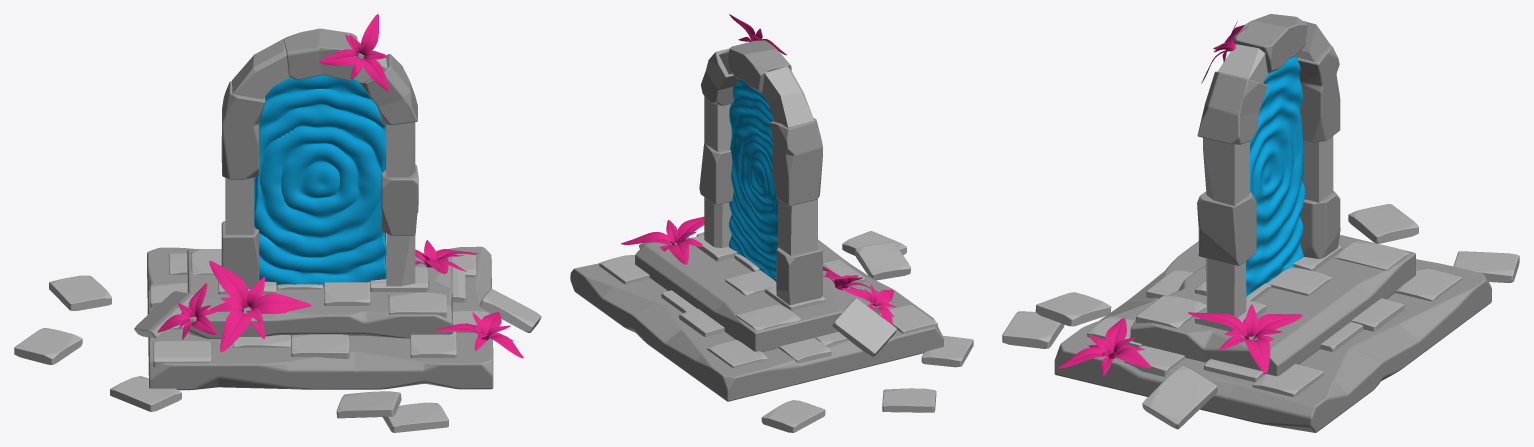
3 views of the same model, side by side, from view 1: azimuth 30°, elevation 25°; view 2: azimuth 150°, elevation 25°; view 3: azimuth 270°, elevation 25° (orthographic). The views are drawn at different scales.
Visible parts, largest first — view 1: Plane.003, Plane.004, Plane.001, Plane.002, Plane, Plane.006, Plane.009, Cube.024, Cube.023, Cube.019, Cube.020, Cube.018 (+14 smaller); view 2: Plane.004, Plane.001, Plane.002, Plane.003, Plane, Cube.022, Cube.019, Plane.007, Cube.023, Cube.024, Cube.020, Cube.005 (+14 smaller); view 3: Plane.004, Plane.001, Plane.002, Plane.003, Plane, Cube.017, Plane.007, Cube.024, Plane.008, Cube.019, Cube.018, Cube.023 (+12 smaller).
Part boxes in pixels (bbox=[...]): Plane.003: bbox=[254, 75, 386, 286]; Plane.004: bbox=[147, 246, 493, 390]; Plane.001: bbox=[221, 28, 418, 289]; Plane.002: bbox=[187, 249, 452, 338]; Plane: bbox=[225, 38, 415, 286]; Plane.006: bbox=[209, 260, 311, 352]; Plane.009: bbox=[318, 14, 390, 91]; Cube.024: bbox=[14, 328, 82, 364]; Cube.023: bbox=[49, 275, 111, 310]; Cube.019: bbox=[336, 391, 401, 418]; Cube.020: bbox=[110, 376, 181, 411]; Cube.018: bbox=[382, 402, 448, 432]; Plane.004: bbox=[570, 239, 943, 401]; Plane.001: bbox=[699, 40, 822, 305]; Plane.002: bbox=[635, 234, 879, 351]; Plane.003: bbox=[728, 79, 777, 281]; Plane: bbox=[704, 51, 817, 255]; Cube.022: bbox=[832, 298, 896, 356]; Cube.019: bbox=[855, 242, 910, 280]; Plane.007: bbox=[621, 216, 704, 264]; Cube.023: bbox=[761, 400, 825, 432]; Cube.024: bbox=[882, 388, 936, 412]; Cube.020: bbox=[921, 336, 973, 367]; Cube.005: bbox=[736, 304, 800, 330]; Plane.004: bbox=[1054, 241, 1491, 432]; Plane.001: bbox=[1197, 14, 1340, 265]; Plane.002: bbox=[1130, 235, 1415, 376]; Plane.003: bbox=[1246, 55, 1305, 297]; Plane: bbox=[1203, 21, 1333, 317]; Cube.017: bbox=[1142, 366, 1217, 429]; Plane.007: bbox=[1188, 304, 1302, 373]; Cube.024: bbox=[1348, 204, 1418, 243]; Plane.008: bbox=[1058, 318, 1151, 375]; Cube.019: bbox=[1035, 292, 1111, 326]; Cube.018: bbox=[1002, 311, 1064, 348]; Cube.023: bbox=[1453, 251, 1519, 282].
Size of the model in its own units: 771 by 542 by 738.
